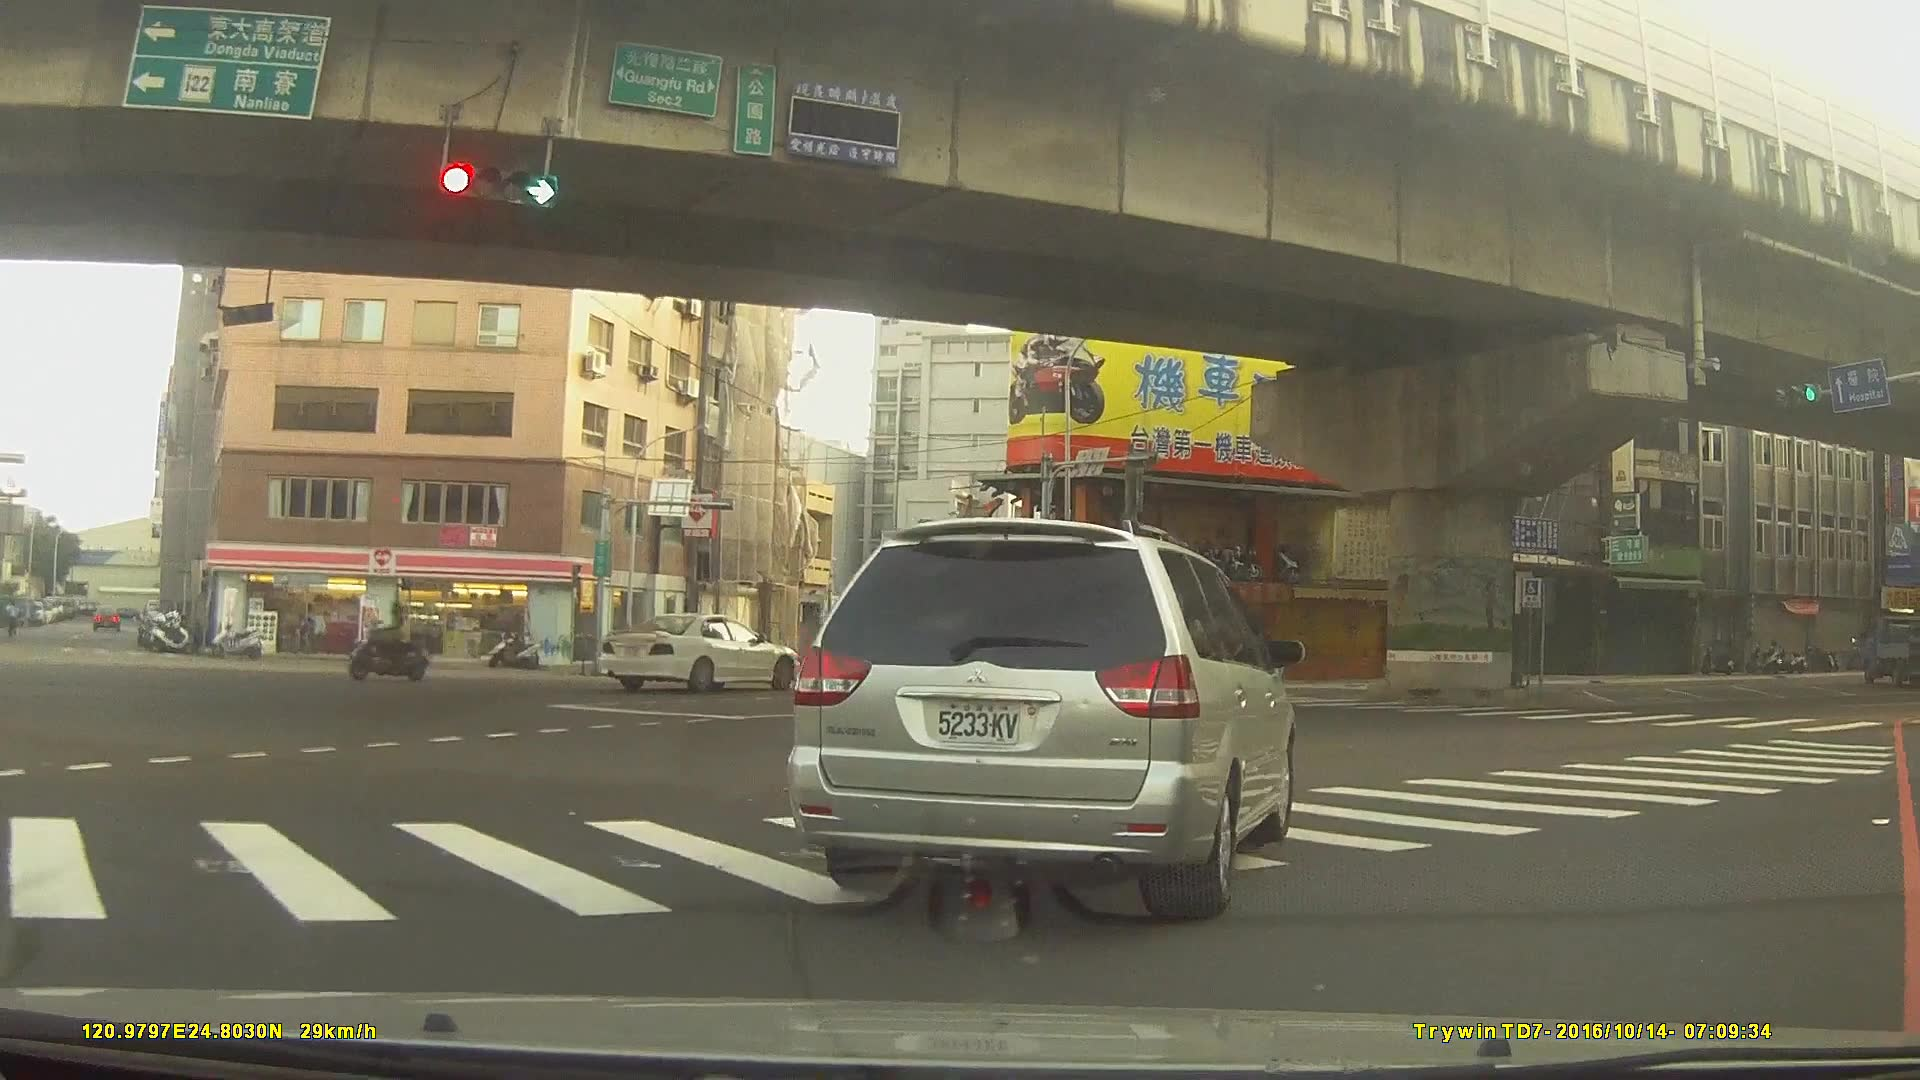rider: (350, 599, 430, 682)
vehicle: (778, 517, 1295, 924), (595, 609, 804, 693), (1854, 612, 1920, 683), (792, 635, 866, 677), (89, 603, 120, 630)
